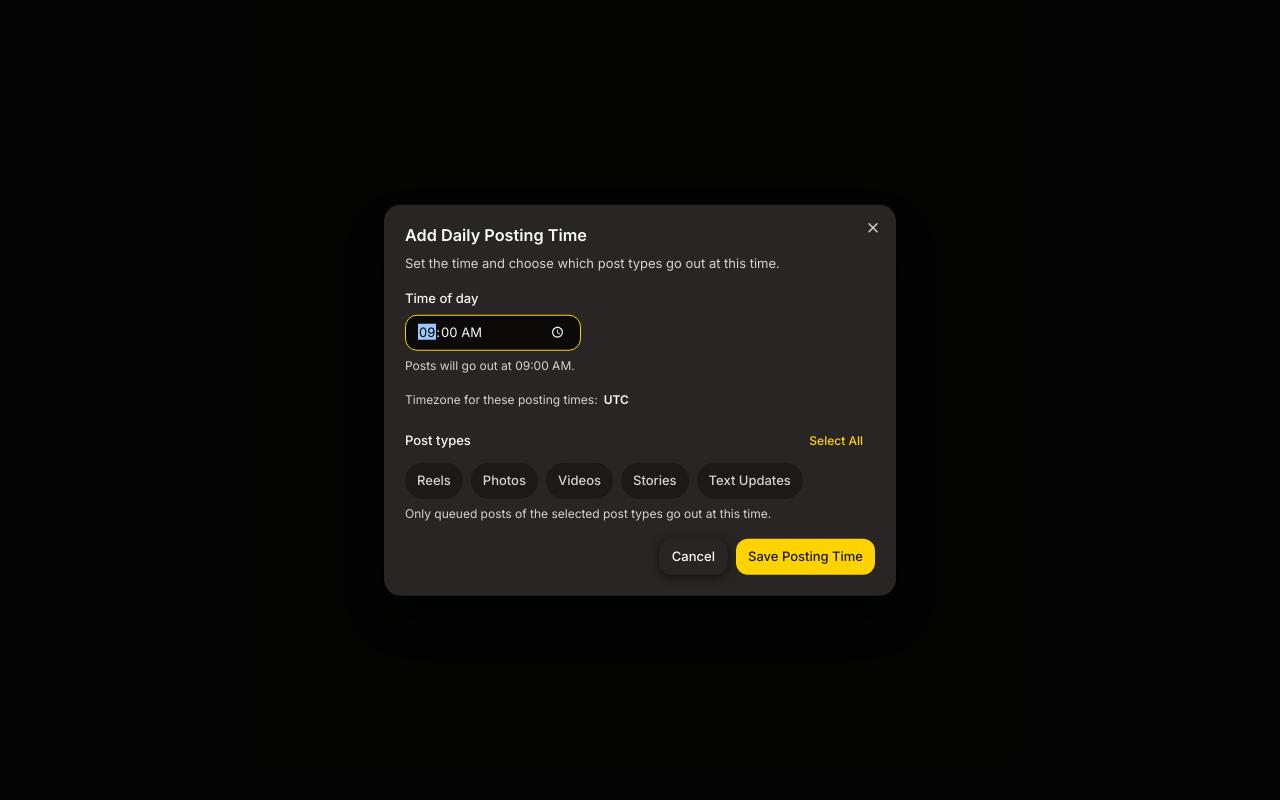
Test: PostingTimeForm › surfaces a save failure in the summary and keeps the dialog open
The image size is (1280, 800).
Click the button with test id "modal-format-toggle-reel" at (434, 480), box 405,462 -> 463,498
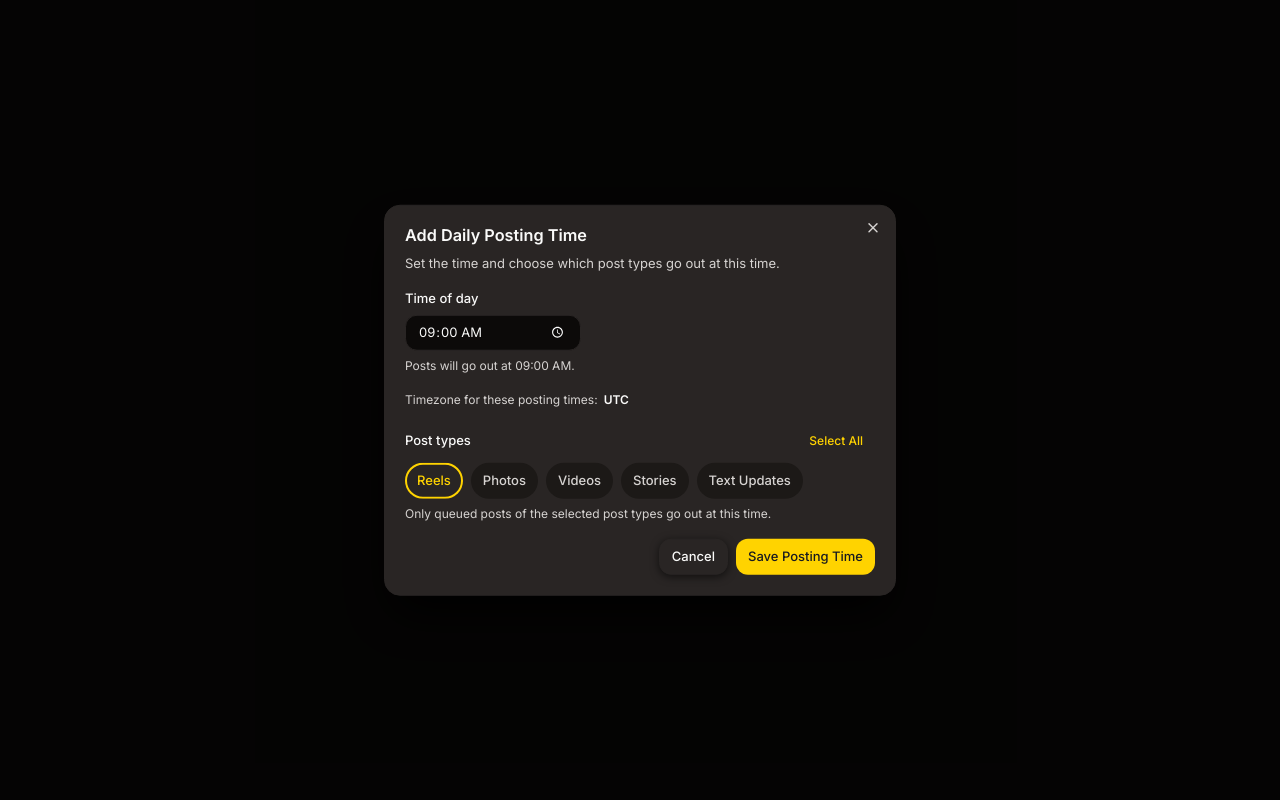
Click the button with test id "save-slot-btn" at (806, 556), box 736,538 -> 875,574
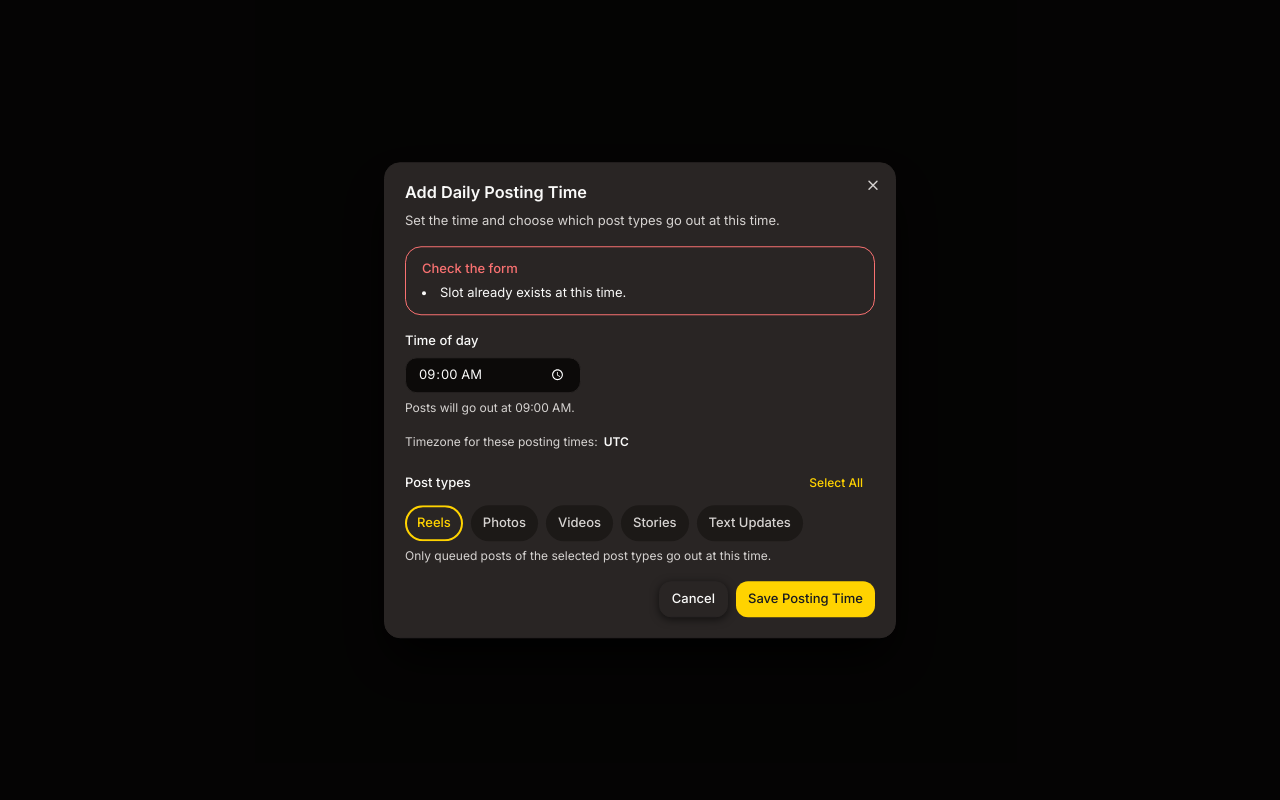
Now the text "Slot already exists at this time." is shown, box 440,284 -> 626,300
